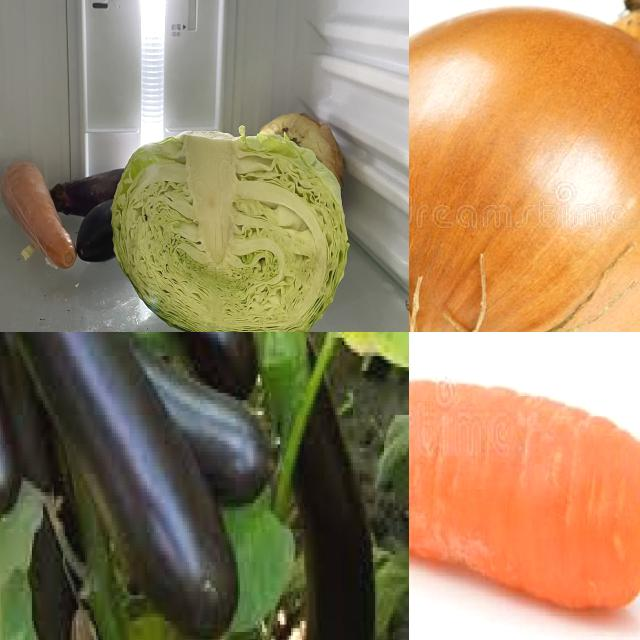cabbage: (108, 131, 349, 333)
carrot: (410, 333, 640, 640), (1, 155, 79, 271)
eggplant: (1, 333, 238, 640), (49, 164, 125, 220), (76, 199, 120, 265)
onion: (410, 1, 640, 333), (254, 107, 347, 187)
